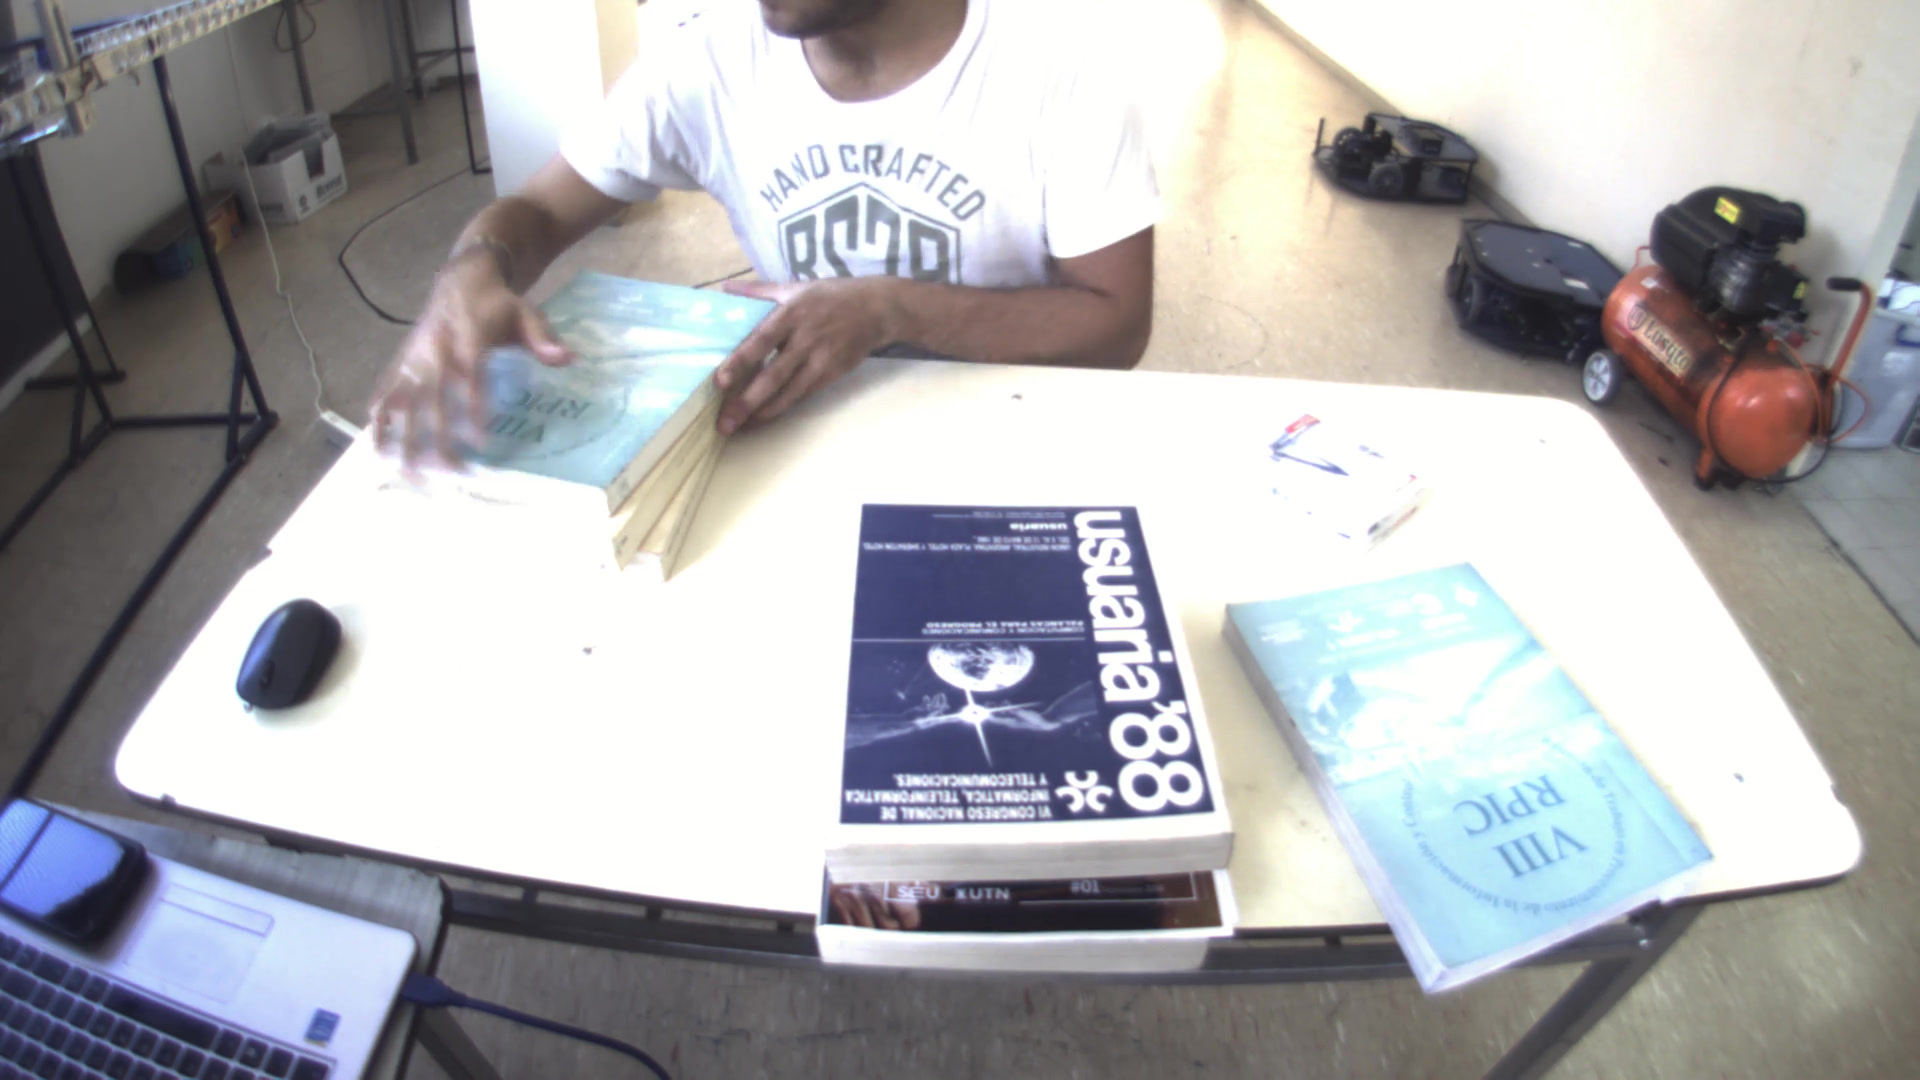hand: (342, 243, 574, 489), (707, 266, 890, 426)
